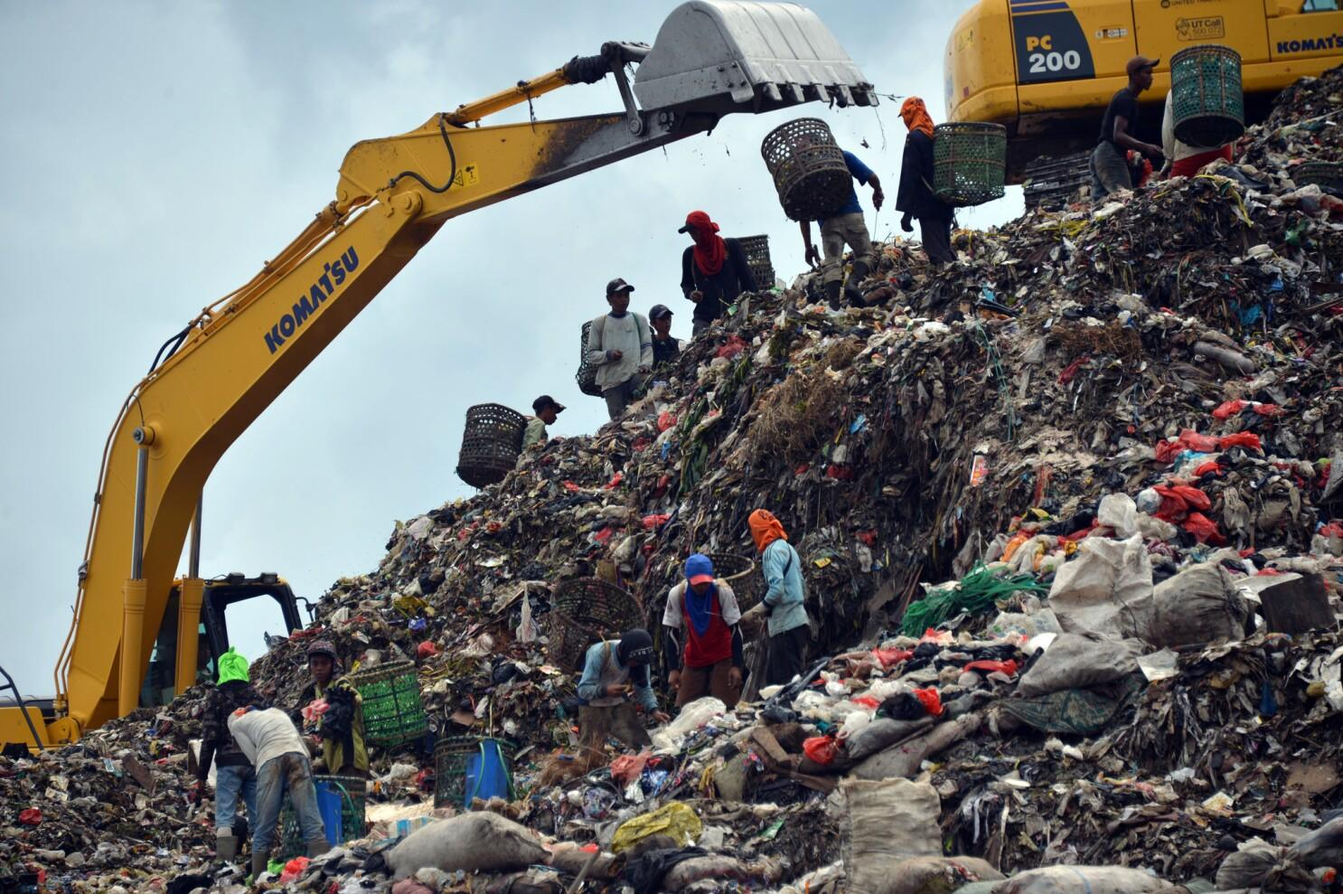garbage: (159, 236, 1343, 894)
